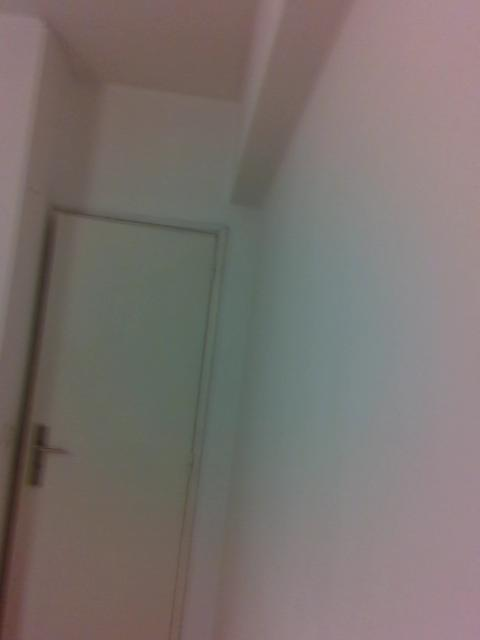door: (9, 212, 216, 639)
